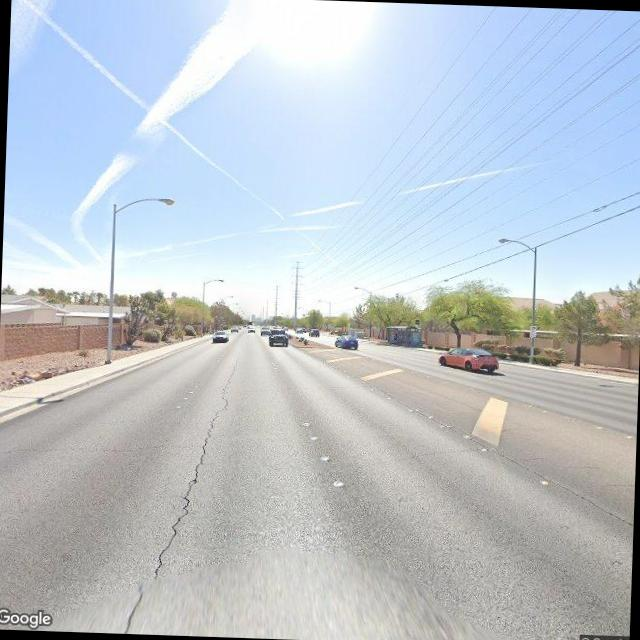crack: (153, 361, 237, 580), (0, 432, 167, 462), (368, 441, 485, 469)
